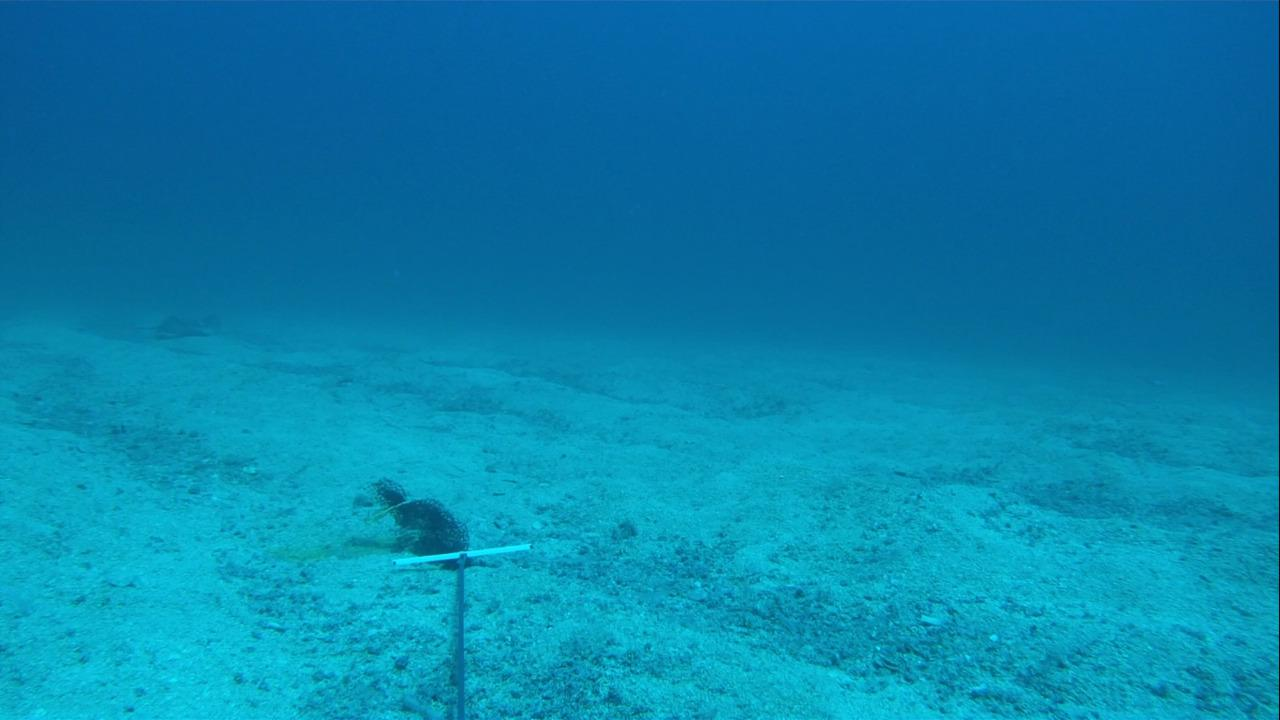myliobatis: (72, 300, 240, 348)
